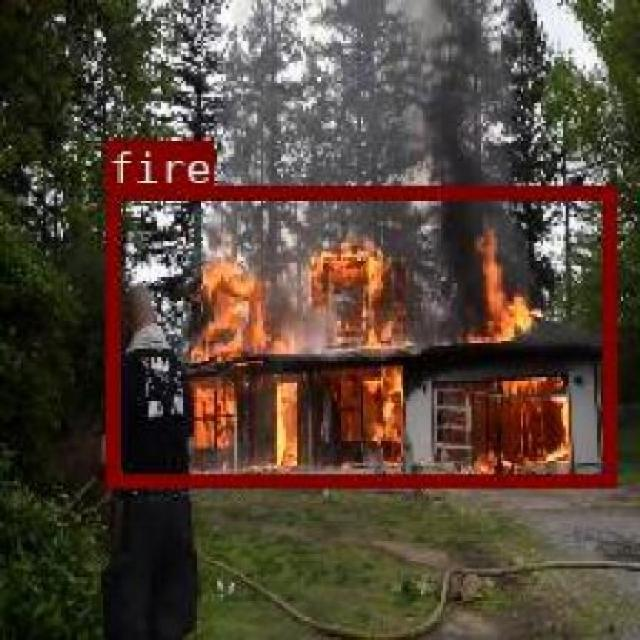Fire: (103, 186, 612, 485)
